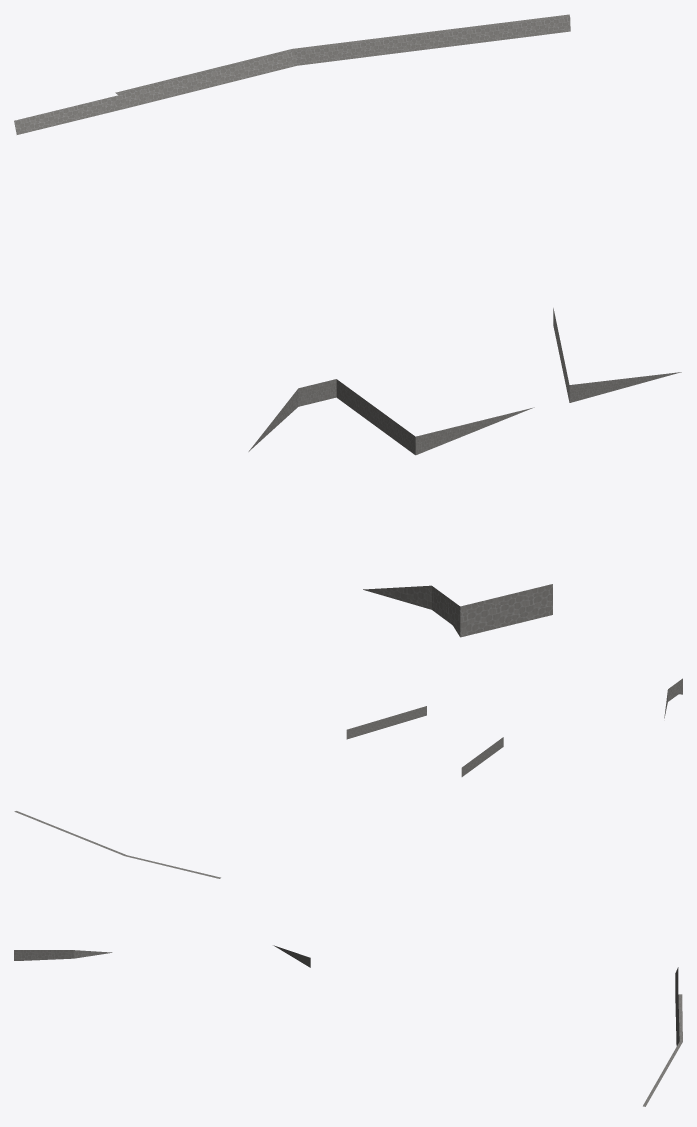
The model's file is kd_stage_13612f_3_26_bounded.glb.
3 renders of one model, top to bottom at view 1: azimuth 30°, elevation 25°; view 2: azimuth 150°, elevation 25°; view 3: azimuth 270°, elevation 25°, orthographic. The views are drawn at different scales.
Visible parts, largest first — view 1: kd_stage_13612f_3_26_bounded; view 2: kd_stage_13612f_3_26_bounded; view 3: kd_stage_13612f_3_26_bounded.
Boxes of the visible parts, x1,y1,x2,y2 form: kd_stage_13612f_3_26_bounded: [14, 14, 681, 637]; kd_stage_13612f_3_26_bounded: [14, 678, 682, 878]; kd_stage_13612f_3_26_bounded: [14, 945, 682, 1106].
Bounding box in the file's own units: 24.16 × 1.4 × 35.63.
Materials: 1 (1 with a texture image).
